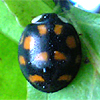Rash: (17, 12, 81, 92)
